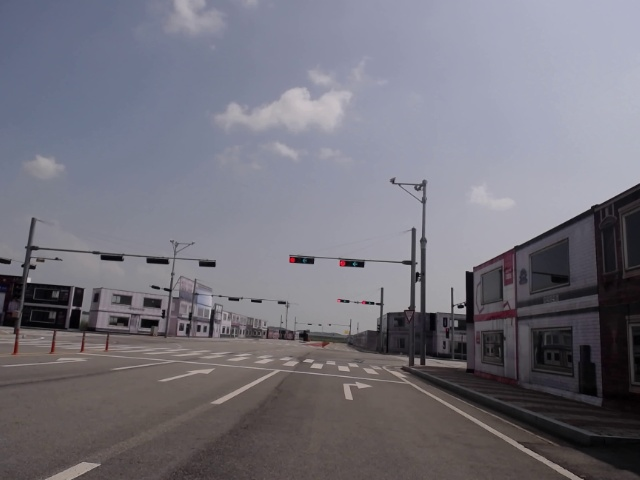left_green_4: (289, 257, 314, 264), (341, 260, 364, 267)
